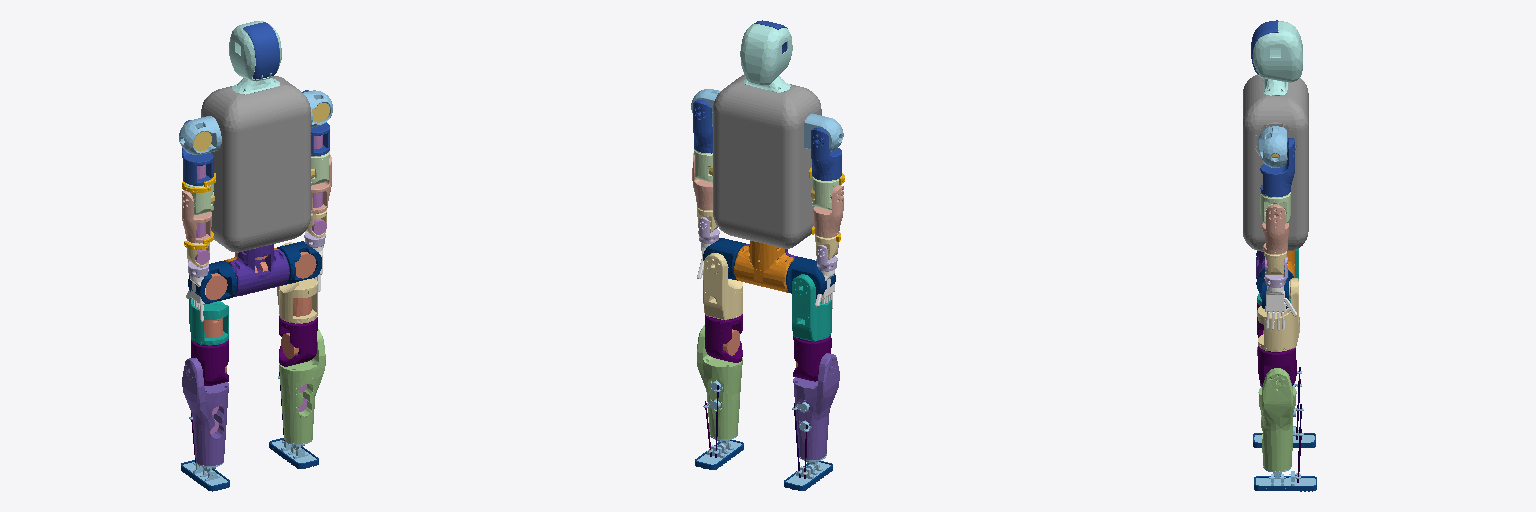
--- What the picture shows (computed from the rendered views, not written in the file) ---
The picture shows the robot from 3 angles, left to right: view 1: azimuth 30°, elevation 25°; view 2: azimuth 150°, elevation 25°; view 3: azimuth 270°, elevation 25°; orthographic projection.
Robot: robot_harambe — 26 links, 25 joints (23 revolute, 2 fixed); root link urdf_base; default pose: every joint at zero.
Visible links, largest first — view 1: urdf_simplified_torso_sub_assembly, urdf_l_tibia_assembly, urdf_r_tibia_assembly, urdf_base, urdf_r_upper_femur_assemby, urdf_lower_femur_assembly_2, urdf_l_upper_femur_assembly, urdf_l_shoulder_assembly, urdf_hip_assembly, urdf_lower_femur_assembly, urdf_hip_assembly_2, urdf_l_upper_forearm_assembly (+6 smaller); view 2: urdf_simplified_torso_sub_assembly, urdf_l_tibia_assembly, urdf_r_tibia_assembly, urdf_base, urdf_r_upper_femur_assemby, urdf_l_upper_femur_assembly, urdf_lower_femur_assembly_2, urdf_l_upper_arm_assembly, urdf_lower_femur_assembly, urdf_l_upper_forearm_assembly, urdf_r_upper_arm_assembly, urdf_hip_assembly (+6 smaller); view 3: urdf_simplified_torso_sub_assembly, urdf_r_tibia_assembly, urdf_r_upper_femur_assemby, urdf_r_upper_arm_assembly, urdf_r_wrist_assembly, urdf_r_upper_forearm_assembly, urdf_r_shoulder_assembly, urdf_lower_femur_assembly_2, urdf_l_tibia_assembly.
Link boxes in pixels (box(x1,y1,x2,y2)): urdf_simplified_torso_sub_assembly: box(201, 21, 310, 252); urdf_l_tibia_assembly: box(181, 358, 229, 491); urdf_r_tibia_assembly: box(269, 329, 325, 468); urdf_base: box(224, 244, 289, 296); urdf_r_upper_femur_assemby: box(277, 242, 317, 323); urdf_lower_femur_assembly_2: box(279, 316, 317, 366); urdf_l_upper_femur_assembly: box(189, 275, 228, 345); urdf_l_shoulder_assembly: box(179, 116, 221, 154); urdf_hip_assembly: box(188, 261, 236, 303); urdf_lower_femur_assembly: box(191, 339, 228, 385); urdf_hip_assembly_2: box(277, 241, 321, 284); urdf_l_upper_forearm_assembly: box(182, 190, 213, 243); urdf_simplified_torso_sub_assembly: box(713, 20, 821, 248); urdf_l_tibia_assembly: box(784, 353, 839, 490); urdf_r_tibia_assembly: box(695, 325, 743, 469); urdf_base: box(734, 241, 797, 292); urdf_r_upper_femur_assemby: box(703, 253, 742, 320); urdf_l_upper_femur_assembly: box(792, 274, 831, 341); urdf_lower_femur_assembly_2: box(705, 314, 742, 362); urdf_l_upper_arm_assembly: box(809, 128, 841, 180); urdf_lower_femur_assembly: box(793, 335, 831, 381); urdf_l_upper_forearm_assembly: box(812, 185, 843, 237); urdf_r_upper_arm_assembly: box(693, 100, 712, 153); urdf_hip_assembly: box(786, 257, 835, 298); urdf_simplified_torso_sub_assembly: box(1243, 20, 1308, 251); urdf_r_tibia_assembly: box(1254, 368, 1316, 491); urdf_r_upper_femur_assemby: box(1257, 278, 1299, 351); urdf_r_upper_arm_assembly: box(1260, 138, 1294, 196); urdf_r_wrist_assembly: box(1265, 257, 1296, 330); urdf_r_upper_forearm_assembly: box(1262, 204, 1288, 253); urdf_r_shoulder_assembly: box(1258, 126, 1286, 167); urdf_lower_femur_assembly_2: box(1258, 346, 1296, 385); urdf_l_tibia_assembly: box(1253, 347, 1315, 447).
Bounding box of the posed robot: 0.6193 × 0.272 × 1.77 m (x, y, z).
Meshes: 55 distinct files referenced, 130 mesh visuals loaded (55 binary STL).

The robot description file, URDF, robot "robot_harambe":
<?xml version="1.0" ?>
<!-- Generated using onshape-to-robot -->
<!-- Onshape document_id: 44eccb8c34362883e6cd3fd1 -->
<robot name="robot_harambe">
  <!-- Link urdf_base -->
  <link name="urdf_base">
    <inertial>
      <origin xyz="0.000699269 0.0334604 -0.431702" rpy="0 0 0"/>
      <mass value="5.132"/>
      <inertia ixx="0.0213139" ixy="-2.35276e-07" ixz="6.5838e-06" iyy="0.0288848" iyz="-2.88595e-05" izz="0.0155352"/>
    </inertial>
    <!-- Part stator_x8_p20_120_unified -->
    <visual>
      <origin xyz="-0.0103011 0.0333787 -0.467748" rpy="-1.5708 0.785398 1.5708"/>
      <geometry>
        <mesh filename="meshes/visual/stator_x8_p20_120_unified.stl"/>
      </geometry>
      <material name="stator_x8_p20_120_unified_material">
        <color rgba="0.882353 0.572549 0.478431 1"/>
      </material>
    </visual>
    <!-- Part b_base -->
    <visual>
      <origin xyz="0.000697952 -0.00271429 -0.432504" rpy="0 -0 0"/>
      <geometry>
        <mesh filename="meshes/visual/b_base.stl"/>
      </geometry>
      <material name="b_base_material">
        <color rgba="0.368627 0.25098 0.643137 1"/>
      </material>
    </visual>
    <collision>
      <origin xyz="0.000697952 -0.00271429 -0.432504" rpy="0 -0 0"/>
      <geometry>
        <mesh filename="meshes/collision/b_base.stl"/>
      </geometry>
    </collision>
    <!-- Part stator_x8_p20_120_unified_2 -->
    <visual>
      <origin xyz="0.0116989 0.0333787 -0.467748" rpy="1.5708 -0.785398 1.5708"/>
      <geometry>
        <mesh filename="meshes/visual/stator_x8_p20_120_unified.stl"/>
      </geometry>
      <material name="stator_x8_p20_120_unified_2_material">
        <color rgba="0.882353 0.572549 0.478431 1"/>
      </material>
    </visual>
    <!-- Part stator_x8_p20_120_unified_3 -->
    <visual>
      <origin xyz="0.000698852 0.0333787 -0.396748" rpy="0 -0 0"/>
      <geometry>
        <mesh filename="meshes/visual/stator_x8_p20_120_unified.stl"/>
      </geometry>
      <material name="stator_x8_p20_120_unified_3_material">
        <color rgba="0.882353 0.572549 0.478431 1"/>
      </material>
    </visual>
    <!-- Part f_base -->
    <visual>
      <origin xyz="0.000705351 0.070373 -0.431099" rpy="0 -0 0"/>
      <geometry>
        <mesh filename="meshes/visual/f_base.stl"/>
      </geometry>
      <material name="f_base_material">
        <color rgba="0.909804 0.572549 0.164706 1"/>
      </material>
    </visual>
    <collision>
      <origin xyz="0.000705351 0.070373 -0.431099" rpy="0 -0 0"/>
      <geometry>
        <mesh filename="meshes/collision/f_base.stl"/>
      </geometry>
    </collision>
  </link>
  <!-- Link urdf_simplified_torso_sub_assembly -->
  <link name="urdf_simplified_torso_sub_assembly">
    <inertial>
      <origin xyz="0.00587549 -0.00084485 -0.417851" rpy="0 0 0"/>
      <mass value="9.22071"/>
      <inertia ixx="0.220452" ixy="2.3692e-08" ixz="-0.000110066" iyy="0.324451" iyz="-0.00208618" izz="0.138166"/>
    </inertial>
    <!-- Part urdf_r_plate_shoulder_with_limiter_pla -->
    <visual>
      <origin xyz="0.168755 -4.00834e-06 -0.427883" rpy="-3.14159 0 0"/>
      <geometry>
        <mesh filename="meshes/visual/urdf_r_plate_shoulder_with_limiter_pla.stl"/>
      </geometry>
      <material name="urdf_r_plate_shoulder_with_limiter_pla_material">
        <color rgba="0.647059 0.647059 0.647059 1"/>
      </material>
    </visual>
    <collision>
      <origin xyz="0.168755 -4.00834e-06 -0.427883" rpy="-3.14159 0 0"/>
      <geometry>
        <mesh filename="meshes/collision/urdf_r_plate_shoulder_with_limiter_pla.stl"/>
      </geometry>
    </collision>
    <!-- Part urdf_l_plate_shoulder_with_limiter_pla -->
    <visual>
      <origin xyz="-0.156752 -4.00839e-06 -0.427883" rpy="3.14159 -0 0"/>
      <geometry>
        <mesh filename="meshes/visual/urdf_l_plate_shoulder_with_limiter_pla.stl"/>
      </geometry>
      <material name="urdf_l_plate_shoulder_with_limiter_pla_material">
        <color rgba="0.615686 0.811765 0.929412 1"/>
      </material>
    </visual>
    <collision>
      <origin xyz="-0.156752 -4.00839e-06 -0.427883" rpy="3.14159 -0 0"/>
      <geometry>
        <mesh filename="meshes/collision/urdf_l_plate_shoulder_with_limiter_pla.stl"/>
      </geometry>
    </collision>
    <!-- Part stator_x6_p20_60_unified -->
    <visual>
      <origin xyz="0.0990017 -4.00839e-06 -0.427" rpy="-3.14159 -1.5708 0"/>
      <geometry>
        <mesh filename="meshes/visual/stator_x6_p20_60_unified.stl"/>
      </geometry>
      <material name="stator_x6_p20_60_unified_material">
        <color rgba="0.960784 0.835294 0.470588 1"/>
      </material>
    </visual>
    <!-- Part stator_x6_p20_60_unified_2 -->
    <visual>
      <origin xyz="-0.0869983 -4.00839e-06 -0.427" rpy="0 -1.5708 0"/>
      <geometry>
        <mesh filename="meshes/visual/stator_x6_p20_60_unified.stl"/>
      </geometry>
      <material name="stator_x6_p20_60_unified_2_material">
        <color rgba="0.960784 0.835294 0.470588 1"/>
      </material>
    </visual>
    <!-- Part urdf_simplified_torso -->
    <visual>
      <origin xyz="0.00600172 -4.00844e-06 -0.2625" rpy="-3.14159 0 0"/>
      <geometry>
        <mesh filename="meshes/visual/urdf_simplified_torso.stl"/>
      </geometry>
      <material name="urdf_simplified_torso_material">
        <color rgba="0.647059 0.647059 0.647059 1"/>
      </material>
    </visual>
    <collision>
      <origin xyz="0.00600172 -4.00844e-06 -0.2625" rpy="-3.14159 0 0"/>
      <geometry>
        <mesh filename="meshes/collision/urdf_simplified_torso.stl"/>
      </geometry>
    </collision>
    <!-- Part urdf_torso_pelvis_plate_pla -->
    <visual>
      <origin xyz="-0 0 -0.005" rpy="3.14159 -0 -0"/>
      <geometry>
        <mesh filename="meshes/visual/urdf_torso_pelvis_plate_pla.stl"/>
      </geometry>
      <material name="urdf_torso_pelvis_plate_pla_material">
        <color rgba="0.231373 0.380392 0.705882 1"/>
      </material>
    </visual>
    <collision>
      <origin xyz="-0 0 -0.005" rpy="3.14159 -0 -0"/>
      <geometry>
        <mesh filename="meshes/collision/urdf_torso_pelvis_plate_pla.stl"/>
      </geometry>
    </collision>
    <!-- Part head -->
    <visual>
      <origin xyz="0.00635981 -4.18304e-05 -0.6725" rpy="-3.14159 0 0"/>
      <geometry>
        <mesh filename="meshes/visual/head.stl"/>
      </geometry>
      <material name="head_material">
        <color rgba="0.737255 0.937255 0.917647 1"/>
      </material>
    </visual>
    <collision>
      <origin xyz="0.00635981 -4.18304e-05 -0.6725" rpy="-3.14159 0 0"/>
      <geometry>
        <mesh filename="meshes/collision/head.stl"/>
      </geometry>
    </collision>
    <!-- Part back_access -->
    <visual>
      <origin xyz="0.00635981 -4.18304e-05 -0.674429" rpy="-3.14159 0 0"/>
      <geometry>
        <mesh filename="meshes/visual/back_access.stl"/>
      </geometry>
      <material name="back_access_material">
        <color rgba="0.231373 0.380392 0.705882 1"/>
      </material>
    </visual>
    <collision>
      <origin xyz="0.00635981 -4.18304e-05 -0.674429" rpy="-3.14159 0 0"/>
      <geometry>
        <mesh filename="meshes/collision/back_access.stl"/>
      </geometry>
    </collision>
  </link>
  <!-- Link urdf_l_shoulder_assembly -->
  <link name="urdf_l_shoulder_assembly">
    <inertial>
      <origin xyz="-0.00497539 -1.6622e-05 -0.06724" rpy="0 0 0"/>
      <mass value="3.07135"/>
      <inertia ixx="0.0035417" ixy="-1.44506e-06" ixz="2.84269e-05" iyy="0.00313077" iyz="3.53617e-06" izz="0.00290943"/>
    </inertial>
    <!-- Part l_shoulder -->
    <visual>
      <origin xyz="-0.00130076 -6.96521e-06 -0.0502746" rpy="-1.5708 -1.5708 0"/>
      <geometry>
        <mesh filename="meshes/visual/l_shoulder.stl"/>
      </geometry>
      <material name="l_shoulder_material">
        <color rgba="0.615686 0.811765 0.929412 1"/>
      </material>
    </visual>
    <collision>
      <origin xyz="-0.00130076 -6.96521e-06 -0.0502746" rpy="-1.5708 -1.5708 0"/>
      <geometry>
        <mesh filename="meshes/collision/l_shoulder.stl"/>
      </geometry>
    </collision>
    <!-- Part stator_x6_p20_60_unified_3 -->
    <visual>
      <origin xyz="-0.0385 0 -0.07" rpy="3.14159 -1.5708 0"/>
      <geometry>
        <mesh filename="meshes/visual/stator_x6_p20_60_unified.stl"/>
      </geometry>
      <material name="stator_x6_p20_60_unified_3_material">
        <color rgba="0.960784 0.835294 0.470588 1"/>
      </material>
    </visual>
  </link>
  <!-- Link urdf_l_upper_arm_assembly -->
  <link name="urdf_l_upper_arm_assembly">
    <inertial>
      <origin xyz="0.00100127 0.105781 -0.0355919" rpy="0 0 0"/>
      <mass value="0.822"/>
      <inertia ixx="0.00215042" ixy="-4.34135e-05" ixz="1.65821e-05" iyy="0.00109808" iyz="0.00049977" izz="0.0019913"/>
    </inertial>
    <!-- Part arm_limiter -->
    <visual>
      <origin xyz="0.0411507 0.158216 -0.0675144" rpy="1.5708 0 -0"/>
      <geometry>
        <mesh filename="meshes/visual/arm_limiter.stl"/>
      </geometry>
      <material name="arm_limiter_material">
        <color rgba="1 0.756863 0.054902 1"/>
      </material>
    </visual>
    <collision>
      <origin xyz="0.0411507 0.158216 -0.0675144" rpy="1.5708 0 -0"/>
      <geometry>
        <mesh filename="meshes/collision/arm_limiter.stl"/>
      </geometry>
    </collision>
    <!-- Part l_upper_arm -->
    <visual>
      <origin xyz="6.2547e-08 0.0912885 -0.0256703" rpy="1.5708 -0 -0"/>
      <geometry>
        <mesh filename="meshes/visual/l_upper_arm.stl"/>
      </geometry>
      <material name="l_upper_arm_material">
        <color rgba="0.231373 0.380392 0.705882 1"/>
      </material>
    </visual>
    <collision>
      <origin xyz="6.2547e-08 0.0912885 -0.0256703" rpy="1.5708 -0 -0"/>
      <geometry>
        <mesh filename="meshes/collision/l_upper_arm.stl"/>
      </geometry>
    </collision>
    <!-- Part stator_x4_p36_36_unified -->
    <visual>
      <origin xyz="-0 0.091 -0.046" rpy="-1.5708 -0 0"/>
      <geometry>
        <mesh filename="meshes/visual/stator_x4_p36_36_unified.stl"/>
      </geometry>
      <material name="stator_x4_p36_36_unified_material">
        <color rgba="0.764706 0.545098 0.803922 1"/>
      </material>
    </visual>
  </link>
  <!-- Link urdf_l_elbow_assembly -->
  <link name="urdf_l_elbow_assembly">
    <inertial>
      <origin xyz="0.00994774 -0.000233513 -0.0631484" rpy="0 0 0"/>
      <mass value="2.98735"/>
      <inertia ixx="0.00314902" ixy="-2.33726e-05" ixz="0.000124999" iyy="0.00298255" iyz="3.70633e-05" izz="0.00265174"/>
    </inertial>
    <!-- Part elbow_limiter -->
    <visual>
      <origin xyz="-0.0364319 -0.0350673 -0.00907087" rpy="0 -0 -0"/>
      <geometry>
        <mesh filename="meshes/visual/elbow_limiter.stl"/>
      </geometry>
      <material name="elbow_limiter_material">
        <color rgba="1 0.756863 0.054902 1"/>
      </material>
    </visual>
    <collision>
      <origin xyz="-0.0364319 -0.0350673 -0.00907087" rpy="0 -0 -0"/>
      <geometry>
        <mesh filename="meshes/collision/elbow_limiter.stl"/>
      </geometry>
    </collision>
    <!-- Part stator_x6_p20_60_unified_4 -->
    <visual>
      <origin xyz="0.0445 0 -0.065" rpy="3.14159 1.5708 0"/>
      <geometry>
        <mesh filename="meshes/visual/stator_x6_p20_60_unified.stl"/>
      </geometry>
      <material name="stator_x6_p20_60_unified_4_material">
        <color rgba="0.960784 0.835294 0.470588 1"/>
      </material>
    </visual>
    <!-- Part l_elbow -->
    <visual>
      <origin xyz="-0.000331628 1.15447e-05 -0.0512953" rpy="0 -0 0"/>
      <geometry>
        <mesh filename="meshes/visual/l_elbow.stl"/>
      </geometry>
      <material name="l_elbow_material">
        <color rgba="0.796078 0.905882 0.745098 1"/>
      </material>
    </visual>
    <collision>
      <origin xyz="-0.000331628 1.15447e-05 -0.0512953" rpy="0 -0 0"/>
      <geometry>
        <mesh filename="meshes/collision/l_elbow.stl"/>
      </geometry>
    </collision>
  </link>
  <!-- Link urdf_l_upper_forearm_assembly -->
  <link name="urdf_l_upper_forearm_assembly">
    <inertial>
      <origin xyz="0.00170771 -0.103744 0.0340287" rpy="0 0 0"/>
      <mass value="0.727"/>
      <inertia ixx="0.00176929" ixy="-5.82199e-06" ixz="-1.34759e-06" iyy="0.000766079" iyz="0.000394864" izz="0.0015348"/>
    </inertial>
    <!-- Part forearm_limiter -->
    <visual>
      <origin xyz="-0.0189092 -0.156122 0.0747704" rpy="-1.57087 -1.5708 0"/>
      <geometry>
        <mesh filename="meshes/visual/forearm_limiter.stl"/>
      </geometry>
      <material name="forearm_limiter_material">
        <color rgba="1 0.756863 0.054902 1"/>
      </material>
    </visual>
    <collision>
      <origin xyz="-0.0189092 -0.156122 0.0747704" rpy="-1.57087 -1.5708 0"/>
      <geometry>
        <mesh filename="meshes/collision/forearm_limiter.stl"/>
      </geometry>
    </collision>
    <!-- Part l_upper_forearm -->
    <visual>
      <origin xyz="0.0046701 -0.0842108 0.0254855" rpy="-1.5708 -1.5708 0"/>
      <geometry>
        <mesh filename="meshes/visual/l_upper_forearm.stl"/>
      </geometry>
      <material name="l_upper_forearm_material">
        <color rgba="0.890196 0.698039 0.639216 1"/>
      </material>
    </visual>
    <collision>
      <origin xyz="0.0046701 -0.0842108 0.0254855" rpy="-1.5708 -1.5708 0"/>
      <geometry>
        <mesh filename="meshes/collision/l_upper_forearm.stl"/>
      </geometry>
    </collision>
    <!-- Part stator_x4_p36_36_unified_2 -->
    <visual>
      <origin xyz="-0 -0.09 0.04" rpy="1.5708 -1.5708 0"/>
      <geometry>
        <mesh filename="meshes/visual/stator_x4_p36_36_unified.stl"/>
      </geometry>
      <material name="stator_x4_p36_36_unified_2_material">
        <color rgba="0.764706 0.545098 0.803922 1"/>
      </material>
    </visual>
  </link>
  <!-- Link urdf_l_lower_forearm_assembly -->
  <link name="urdf_l_lower_forearm_assembly">
    <inertial>
      <origin xyz="-0.00114678 -0.00570813 -0.0477193" rpy="0 0 0"/>
      <mass value="0.553"/>
      <inertia ixx="0.000524359" ixy="-6.12847e-06" ixz="2.55712e-05" iyy="0.000521453" iyz="-1.24836e-05" izz="0.000391379"/>
    </inertial>
    <!-- Part hand_limiter -->
    <visual>
      <origin xyz="-0.0317086 -0.0248862 -0.00779106" rpy="-7.42674e-05 -2.939e-08 -0"/>
      <geometry>
        <mesh filename="meshes/visual/hand_limiter.stl"/>
      </geometry>
      <material name="hand_limiter_material">
        <color rgba="1 0.756863 0.054902 1"/>
      </material>
    </visual>
    <collision>
      <origin xyz="-0.0317086 -0.0248862 -0.00779106" rpy="-7.42674e-05 -2.939e-08 -0"/>
      <geometry>
        <mesh filename="meshes/collision/hand_limiter.stl"/>
      </geometry>
    </collision>
    <!-- Part l_lower_forearm -->
    <visual>
      <origin xyz="-3.7846e-08 0.00198299 -0.0340631" rpy="0 -0 -0"/>
      <geometry>
        <mesh filename="meshes/visual/l_lower_forearm.stl"/>
      </geometry>
      <material name="l_lower_forearm_material">
        <color rgba="0.941176 0.87451 0.678431 1"/>
      </material>
    </visual>
    <collision>
      <origin xyz="-3.7846e-08 0.00198299 -0.0340631" rpy="0 -0 -0"/>
      <geometry>
        <mesh filename="meshes/collision/l_lower_forearm.stl"/>
      </geometry>
    </collision>
    <!-- Part stator_x4_p36_36_unified_3 -->
    <visual>
      <origin xyz="0 -0.038 -0.0565" rpy="1.5708 -0 3.14159"/>
      <geometry>
        <mesh filename="meshes/visual/stator_x4_p36_36_unified.stl"/>
      </geometry>
      <material name="stator_x4_p36_36_unified_3_material">
        <color rgba="0.764706 0.545098 0.803922 1"/>
      </material>
    </visual>
  </link>
  <!-- Link urdf_l_wrist_assembly -->
  <link name="urdf_l_wrist_assembly">
    <inertial>
      <origin xyz="-1.08315e-06 -0.112614 0.0282716" rpy="0 0 0"/>
      <mass value="0.398"/>
      <inertia ixx="0.00160501" ixy="2.3164e-08" ixz="-7.037e-09" iyy="0.000274862" iyz="5.58167e-05" izz="0.00146537"/>
    </inertial>
    <!-- Part l_wrist -->
    <visual>
      <origin xyz="-4.31502e-06 -0.0434653 0.0219314" rpy="-1.5708 -0 0"/>
      <geometry>
        <mesh filename="meshes/visual/l_wrist.stl"/>
      </geometry>
      <material name="l_wrist_material">
        <color rgba="0.8 0.74902 0.913725 1"/>
      </material>
    </visual>
    <collision>
      <origin xyz="-4.31502e-06 -0.0434653 0.0219314" rpy="-1.5708 -0 0"/>
      <geometry>
        <mesh filename="meshes/collision/l_wrist.stl"/>
      </geometry>
    </collision>
    <!-- Part l_hand -->
    <visual>
      <origin xyz="-2.67e-09 -0.135203 0.0303429" rpy="-1.5708 1.5708 0"/>
      <geometry>
        <mesh filename="meshes/visual/l_hand.stl"/>
      </geometry>
      <material name="l_hand_material">
        <color rgba="1 1 1 1"/>
      </material>
    </visual>
    <collision>
      <origin xyz="-2.67e-09 -0.135203 0.0303429" rpy="-1.5708 1.5708 0"/>
      <geometry>
        <mesh filename="meshes/collision/l_hand.stl"/>
      </geometry>
    </collision>
  </link>
  <!-- Joint from urdf_l_lower_forearm_assembly to urdf_l_wrist_assembly -->
  <joint name="left_wrist_roll_joint_X4" type="revolute">
    <origin xyz="0 0.033 -0.0565" rpy="1.5708 0 -0"/>
    <parent link="urdf_l_lower_forearm_assembly"/>
    <child link="urdf_l_wrist_assembly"/>
    <axis xyz="0 0 1"/>
    <limit effort="10" velocity="10" lower="-1.5708" upper="1.5708"/>
  </joint>
  <!-- Joint from urdf_l_upper_forearm_assembly to urdf_l_lower_forearm_assembly -->
  <joint name="left_wrist_yaw_joint_X4" type="revolute">
    <origin xyz="-0 -0.168 0.04" rpy="-1.5708 -1.5708 0"/>
    <parent link="urdf_l_upper_forearm_assembly"/>
    <child link="urdf_l_lower_forearm_assembly"/>
    <axis xyz="0 0 1"/>
    <limit effort="10" velocity="10" lower="-2.35619" upper="2.35619"/>
  </joint>
  <!-- Joint from urdf_l_elbow_assembly to urdf_l_upper_forearm_assembly -->
  <joint name="left_elbow_pitch_joint_X6" type="revolute">
    <origin xyz="-0.04 0 -0.065" rpy="1.5708 0 1.5708"/>
    <parent link="urdf_l_elbow_assembly"/>
    <child link="urdf_l_upper_forearm_assembly"/>
    <axis xyz="0 0 1"/>
    <limit effort="10" velocity="10" lower="-1.5708" upper="1.5708"/>
  </joint>
  <!-- Joint from urdf_l_upper_arm_assembly to urdf_l_elbow_assembly -->
  <joint name="left_shoulder_yaw_joint_X4" type="revolute">
    <origin xyz="0 0.17 -0.046" rpy="1.5708 -0 -0"/>
    <parent link="urdf_l_upper_arm_assembly"/>
    <child link="urdf_l_elbow_assembly"/>
    <axis xyz="0 0 1"/>
    <limit effort="10" velocity="10" lower="-2.35619" upper="2.35619"/>
  </joint>
  <!-- Joint from urdf_l_shoulder_assembly to urdf_l_upper_arm_assembly -->
  <joint name="left_shoulder_roll_joint_X6" type="revolute">
    <origin xyz="0.036 0 -0.07" rpy="-3.14159 -1.5708 0"/>
    <parent link="urdf_l_shoulder_assembly"/>
    <child link="urdf_l_upper_arm_assembly"/>
    <axis xyz="0 0 1"/>
    <limit effort="10" velocity="10" lower="0" upper="3.14159"/>
  </joint>
  <!-- Joint from urdf_simplified_torso_sub_assembly to urdf_l_shoulder_assembly -->
  <joint name="left_shoulder_pitch_joint_X6" type="revolute">
    <origin xyz="-0.169498 -4.00839e-06 -0.427" rpy="-1.5708 0 -1.5708"/>
    <parent link="urdf_simplified_torso_sub_assembly"/>
    <child link="urdf_l_shoulder_assembly"/>
    <axis xyz="0 0 1"/>
    <limit effort="10" velocity="10" lower="-1.5708" upper="3.14159"/>
  </joint>
  <!-- Link urdf_r_shoulder_assembly -->
  <link name="urdf_r_shoulder_assembly">
    <inertial>
      <origin xyz="-0.00525946 9.07501e-06 -0.0685921" rpy="0 0 0"/>
      <mass value="2.84535"/>
      <inertia ixx="0.00278215" ixy="7.27035e-07" ixz="1.19902e-05" iyy="0.00253762" iyz="-1.82653e-06" izz="0.00243401"/>
    </inertial>
    <!-- Part stator_x6_p20_60_unified_5 -->
    <visual>
      <origin xyz="-0.0385 0 -0.07" rpy="-0 1.5708 0"/>
      <geometry>
        <mesh filename="meshes/visual/stator_x6_p20_60_unified.stl"/>
      </geometry>
      <material name="stator_x6_p20_60_unified_5_material">
        <color rgba="0.960784 0.835294 0.470588 1"/>
      </material>
    </visual>
    <!-- Part r_shoulder -->
    <visual>
      <origin xyz="-0.00129067 6.91178e-06 -0.0501448" rpy="1.5708 1.5708 0"/>
      <geometry>
        <mesh filename="meshes/visual/r_shoulder.stl"/>
      </geometry>
      <material name="r_shoulder_material">
        <color rgba="0.615686 0.811765 0.929412 1"/>
      </material>
    </visual>
    <collision>
      <origin xyz="-0.00129067 6.91178e-06 -0.0501448" rpy="1.5708 1.5708 0"/>
      <geometry>
        <mesh filename="meshes/collision/r_shoulder.stl"/>
      </geometry>
    </collision>
  </link>
  <!-- Link urdf_r_upper_arm_assembly -->
  <link name="urdf_r_upper_arm_assembly">
    <inertial>
      <origin xyz="-9.416e-09 -0.104084 0.0297331" rpy="0 0 0"/>
      <mass value="0.802"/>
      <inertia ixx="0.00204755" ixy="-6.95e-10" ixz="1.159e-09" iyy="0.0010158" iyz="0.000468447" izz="0.00188605"/>
    </inertial>
    <!-- Part stator_x4_p36_36_unified_4 -->
    <visual>
      <origin xyz="0 -0.091 0.041" rpy="1.5708 0 0"/>
      <geometry>
        <mesh filename="meshes/visual/stator_x4_p36_36_unified.stl"/>
      </geometry>
      <material name="stator_x4_p36_36_unified_4_material">
        <color rgba="0.764706 0.545098 0.803922 1"/>
      </material>
    </visual>
    <!-- Part r_upper_arm -->
    <visual>
      <origin xyz="-4.6857e-08 -0.0905315 0.020543" rpy="-1.5708 0 0"/>
      <geometry>
        <mesh filename="meshes/visual/r_upper_arm.stl"/>
      </geometry>
      <material name="r_upper_arm_material">
        <color rgba="0.231373 0.380392 0.705882 1"/>
      </material>
    </visual>
    <collision>
      <origin xyz="-4.6857e-08 -0.0905315 0.020543" rpy="-1.5708 0 0"/>
      <geometry>
        <mesh filename="meshes/collision/r_upper_arm.stl"/>
      </geometry>
    </collision>
  </link>
  <!-- Link urdf_r_elbow_assembly -->
  <link name="urdf_r_elbow_assembly">
    <inertial>
      <origin xyz="-0.010381 1.19265e-05 -0.0635916" rpy="0 0 0"/>
      <mass value="2.93435"/>
      <inertia ixx="0.00296574" ixy="-3.7473e-07" ixz="-6.85424e-05" iyy="0.00279047" iyz="-2.33715e-06" izz="0.00250864"/>
    </inertial>
    <!-- Part r_elbow -->
    <visual>
      <origin xyz="0.000331582 1.16025e-05 -0.0512953" rpy="0 -0 0"/>
      <geometry>
        <mesh filename="meshes/visual/r_elbow.stl"/>
      </geometry>
      <material name="r_elbow_material">
        <color rgba="0.796078 0.905882 0.745098 1"/>
      </material>
    </visual>
    <collision>
      <origin xyz="0.000331582 1.16025e-05 -0.0512953" rpy="0 -0 0"/>
      <geometry>
        <mesh filename="meshes/collision/r_elbow.stl"/>
      </geometry>
    </collision>
    <!-- Part stator_x6_p20_60_unified_6 -->
    <visual>
      <origin xyz="-0.0445 0 -0.065" rpy="-3.14159 -1.5708 0"/>
      <geometry>
        <mesh filename="meshes/visual/stator_x6_p20_60_unified.stl"/>
      </geometry>
      <material name="stator_x6_p20_60_unified_6_material">
        <color rgba="0.960784 0.835294 0.470588 1"/>
      </material>
    </visual>
  </link>
  <!-- Link urdf_r_upper_forearm_assembly -->
  <link name="urdf_r_upper_forearm_assembly">
    <inertial>
      <origin xyz="0.00228064 0.101792 0.0327896" rpy="0 0 0"/>
      <mass value="0.707"/>
      <inertia ixx="0.00166903" ixy="-1.53798e-05" ixz="-1.15872e-05" iyy="0.000703651" iyz="-0.000352466" izz="0.0014499"/>
    </inertial>
    <!-- Part stator_x4_p36_36_unified_5 -->
    <visual>
      <origin xyz="0 0.09 0.04" rpy="-1.5708 1.5708 0"/>
      <geometry>
        <mesh filename="meshes/visual/stator_x4_p36_36_unified.stl"/>
      </geometry>
      <material name="stator_x4_p36_36_unified_5_material">
        <color rgba="0.764706 0.545098 0.803922 1"/>
      </material>
    </visual>
    <!-- Part r_upper_forearm -->
    <visual>
      <origin xyz="0.00466986 0.0842107 0.0254856" rpy="1.5708 1.5708 0"/>
      <geometry>
        <mesh filename="meshes/visual/r_upper_forearm.stl"/>
      </geometry>
      <material name="r_upper_forearm_material">
        <color rgba="0.890196 0.698039 0.639216 1"/>
      </material>
    </visual>
    <collision>
      <origin xyz="0.00466986 0.0842107 0.0254856" rpy="1.5708 1.5708 0"/>
      <geometry>
        <mesh filename="meshes/collision/r_upper_forearm.stl"/>
      </geometry>
    </collision>
  </link>
  <!-- Link urdf_r_lower_forearm_assembly -->
  <link name="urdf_r_lower_forearm_assembly">
    <inertial>
      <origin xyz="-2.4334e-08 -0.00399848 -0.046852" rpy="0 0 0"/>
      <mass value="0.618"/>
      <inertia ixx="0.000618602" ixy="1.76e-10" ixz="-5.34e-10" iyy="0.000617307" iyz="-3.83228e-05" izz="0.000437775"/>
    </inertial>
    <!-- Part r_lower_forearm -->
    <visual>
      <origin xyz="4.2712e-08 0.00205797 -0.0333447" rpy="-0 -0 0"/>
      <geometry>
        <mesh filename="meshes/visual/r_lower_forearm.stl"/>
      </geometry>
      <material name="r_lower_forearm_material">
        <color rgba="0.941176 0.87451 0.678431 1"/>
      </material>
    </visual>
    <collision>
      <origin xyz="4.2712e-08 0.00205797 -0.0333447" rpy="-0 -0 0"/>
      <geometry>
        <mesh filename="meshes/collision/r_lower_forearm.stl"/>
      </geometry>
    </collision>
    <!-- Part stator_x4_p36_36_unified_6 -->
    <visual>
      <origin xyz="-0 -0.038 -0.0565" rpy="1.5708 0 3.14159"/>
      <geometry>
        <mesh filename="meshes/visual/stator_x4_p36_36_unified.stl"/>
      </geometry>
      <material name="stator_x4_p36_36_unified_6_material">
        <color rgba="0.764706 0.545098 0.803922 1"/>
      </material>
    </visual>
  </link>
  <!-- Link urdf_r_wrist_assembly -->
  <link name="urdf_r_wrist_assembly">
    <inertial>
      <origin xyz="1.54616e-06 -0.104482 0.0275327" rpy="0 0 0"/>
      <mass value="0.45"/>
      <inertia ixx="0.001889" ixy="-3.2626e-08" ixz="1.0208e-08" iyy="0.000327099" iyz="9.3721e-05" izz="0.0017356"/>
    </inertial>
    <!-- Part r_hand -->
    <visual>
      <origin xyz="2.67e-09 -0.135003 0.0303429" rpy="-1.5708 -1.5708 0"/>
      <geometry>
        <mesh filename="meshes/visual/r_hand.stl"/>
      </geometry>
      <material name="r_hand_material">
        <color rgba="1 1 1 1"/>
      </material>
    </visual>
    <collision>
      <origin xyz="2.67e-09 -0.135003 0.0303429" rpy="-1.5708 -1.5708 0"/>
      <geometry>
        <mesh filename="meshes/collision/r_hand.stl"/>
      </geometry>
    </collision>
    <!-- Part r_wrist -->
    <visual>
      <origin xyz="4.44584e-06 -0.0434653 0.0219316" rpy="-1.5708 0 0"/>
      <geometry>
        <mesh filename="meshes/visual/r_wrist.stl"/>
      </geometry>
      <material name="r_wrist_material">
        <color rgba="0.8 0.74902 0.913725 1"/>
      </material>
    </visual>
    <collision>
      <origin xyz="4.44584e-06 -0.0434653 0.0219316" rpy="-1.5708 0 0"/>
      <geometry>
        <mesh filename="meshes/collision/r_wrist.stl"/>
      </geometry>
    </collision>
  </link>
  <!-- Joint from urdf_r_lower_forearm_assembly to urdf_r_wrist_assembly -->
  <joint name="right_wrist_roll_joint_X4" type="revolute">
    <origin xyz="-0 0.033 -0.0565" rpy="1.5708 -0 -0"/>
    <parent link="urdf_r_lower_forearm_assembly"/>
    <child link="urdf_r_wrist_assembly"/>
    <axis xyz="0 0 1"/>
    <limit effort="10" velocity="10" lower="-1.5708" upper="1.5708"/>
  </joint>
  <!-- Joint from urdf_r_upper_forearm_assembly to urdf_r_lower_forearm_assembly -->
  <joint name="right_wrist_yaw_joint_X4" type="revolute">
    <origin xyz="0 0.168 0.04" rpy="1.5708 1.5708 0"/>
    <parent link="urdf_r_upper_forearm_assembly"/>
    <child link="urdf_r_lower_forearm_assembly"/>
    <axis xyz="0 0 1"/>
    <limit effort="10" velocity="10" lower="-2.35619" upper="2.35619"/>
  </joint>
  <!-- Joint from urdf_r_elbow_assembly to urdf_r_upper_forearm_assembly -->
  <joint name="right_elbow_pitch_joint_X6" type="revolute">
    <origin xyz="0.04 -0 -0.065" rpy="-1.5708 -0 1.5708"/>
    <parent link="urdf_r_elbow_assembly"/>
    <child link="urdf_r_upper_forearm_assembly"/>
    <axis xyz="0 0 1"/>
    <limit effort="10" velocity="10" lower="-1.5708" upper="1.5708"/>
  </joint>
  <!-- Joint from urdf_r_upper_arm_assembly to urdf_r_elbow_assembly -->
  <joint name="right_shoulder_yaw_joint_X4" type="revolute">
    <origin xyz="0 -0.17 0.041" rpy="-1.5708 -0 0"/>
    <parent link="urdf_r_upper_arm_assembly"/>
    <child link="urdf_r_elbow_assembly"/>
    <axis xyz="0 0 1"/>
    <limit effort="10" velocity="10" lower="-2.35619" upper="2.35619"/>
  </joint>
  <!-- Joint from urdf_r_shoulder_assembly to urdf_r_upper_arm_assembly -->
  <joint name="right_shoulder_roll_joint_X6" type="revolute">
    <origin xyz="0.041 0 -0.07" rpy="-3.14159 1.5708 0"/>
    <parent link="urdf_r_shoulder_assembly"/>
    <child link="urdf_r_upper_arm_assembly"/>
    <axis xyz="0 0 1"/>
    <limit effort="10" velocity="10" lower="0" upper="3.14159"/>
  </joint>
  <!-- Joint from urdf_simplified_torso_sub_assembly to urdf_r_shoulder_assembly -->
  <joint name="right_shoulder_pitch_joint_X6" type="revolute">
    <origin xyz="0.181502 -4.00839e-06 -0.427" rpy="1.5708 0 -1.5708"/>
    <parent link="urdf_simplified_torso_sub_assembly"/>
    <child link="urdf_r_shoulder_assembly"/>
    <axis xyz="0 0 1"/>
    <limit effort="10" velocity="10" lower="-3.14159" upper="1.5708"/>
  </joint>
  <!-- Joint from urdf_base to urdf_simplified_torso_sub_assembly -->
  <joint name="waist_yaw_joint" type="revolute">
    <origin xyz="0.000698852 0.0333787 -0.300748" rpy="3.14159 -0 0"/>
    <parent link="urdf_base"/>
    <child link="urdf_simplified_torso_sub_assembly"/>
    <axis xyz="0 0 1"/>
    <limit effort="10" velocity="10" lower="-1.5708" upper="1.5708"/>
  </joint>
  <!-- Link urdf_hip_assembly -->
  <link name="urdf_hip_assembly">
    <inertial>
      <origin xyz="-0.00420762 -6.23945e-06 -0.0689982" rpy="0 0 0"/>
      <mass value="1.73"/>
      <inertia ixx="0.00302301" ixy="4.5747e-08" ixz="-2.30858e-05" iyy="0.00263533" iyz="8.49179e-07" izz="0.00228746"/>
    </inertial>
    <!-- Part hip -->
    <visual>
      <origin xyz="0.00253653 -3.27638e-05 -0.0520203" rpy="-1.5708 -1.5708 0"/>
      <geometry>
        <mesh filename="meshes/visual/hip.stl"/>
      </geometry>
      <material name="hip_material">
        <color rgba="0.0627451 0.266667 0.490196 1"/>
      </material>
    </visual>
    <collision>
      <origin xyz="0.00253653 -3.27638e-05 -0.0520203" rpy="-1.5708 -1.5708 0"/>
      <geometry>
        <mesh filename="meshes/collision/hip.stl"/>
      </geometry>
    </collision>
    <!-- Part stator_x8_p20_120_unified_4 -->
    <visual>
      <origin xyz="-0.043 0 -0.073" rpy="0 1.5708 0"/>
      <geometry>
        <mesh filename="meshes/visual/stator_x8_p20_120_unified.stl"/>
      </geometry>
      <material name="stator_x8_p20_120_unified_4_material">
        <color rgba="0.882353 0.572549 0.478431 1"/>
      </material>
    </visual>
  </link>
  <!-- Link urdf_l_upper_femur_assembly -->
  <link name="urdf_l_upper_femur_assembly">
    <inertial>
      <origin xyz="-0.000406021 -0.148741 0.0457109" rpy="0 0 0"/>
      <mass value="1.912"/>
      <inertia ixx="0.0056213" ixy="5.24747e-05" ixz="1.15373e-06" iyy="0.00336495" iyz="0.000940749" izz="0.0051989"/>
    </inertial>
    <!-- Part l_upper_femur -->
    <visual>
      <origin xyz="-0.00151622 -0.111785 0.0257799" rpy="-1.5708 0 -0"/>
      <geometry>
        <mesh filename="meshes/visual/l_upper_femur.stl"/>
      </geometry>
      <material name="l_upper_femur_material">
        <color rgba="0.141176 0.694118 0.65098 1"/>
      </material>
    </visual>
    <collision>
      <origin xyz="-0.00151622 -0.111785 0.0257799" rpy="-1.5708 0 -0"/>
      <geometry>
        <mesh filename="meshes/collision/l_upper_femur.stl"/>
      </geometry>
    </collision>
    <!-- Part rotor_x8_p20_120 -->
    <visual>
      <origin xyz="0 -0.124 0.053" rpy="-1.5708 -0.420575 -3.14159"/>
      <geometry>
        <mesh filename="meshes/visual/rotor_x8_p20_120.stl"/>
      </geometry>
      <material name="rotor_x8_p20_120_material">
        <color rgba="0.596078 0.176471 0.0509804 1"/>
      </material>
    </visual>
    <!-- Part stator_x8_p20_120 -->
    <visual>
      <origin xyz="0 -0.124 0.053" rpy="1.5708 -0 0"/>
      <geometry>
        <mesh filename="meshes/visual/stator_x8_p20_120.stl"/>
      </geometry>
      <material name="stator_x8_p20_120_material">
        <color rgba="0.882353 0.572549 0.478431 1"/>
      </material>
    </visual>
  </link>
  <!-- Link urdf_lower_femur_assembly -->
  <link name="urdf_lower_femur_assembly">
    <inertial>
      <origin xyz="0.00357383 -1.0389e-08 -0.103307" rpy="0 0 0"/>
      <mass value="1.817"/>
      <inertia ixx="0.00421827" ixy="2.5e-11" ixz="0.00019709" iyy="0.00383469" iyz="-2.1291e-08" izz="0.00258541"/>
    </inertial>
    <!-- Part lower_femur -->
    <visual>
      <origin xyz="-0.00389134 5.752e-09 -0.070766" rpy="0 -0 -0"/>
      <geometry>
        <mesh filename="meshes/visual/lower_femur.stl"/>
      </geometry>
      <material name="lower_femur_material">
        <color rgba="0.380392 0.0470588 0.435294 1"/>
      </material>
    </visual>
    <collision>
      <origin xyz="-0.00389134 5.752e-09 -0.070766" rpy="0 -0 -0"/>
      <geometry>
        <mesh filename="meshes/collision/lower_femur.stl"/>
      </geometry>
    </collision>
    <!-- Part stator_x8_p20_120_unified_5 -->
    <visual>
      <origin xyz="0.043 0 -0.113" rpy="-0 -1.5708 0"/>
      <geometry>
        <mesh filename="meshes/visual/stator_x8_p20_120_unified.stl"/>
      </geometry>
      <material name="stator_x8_p20_120_unified_5_material">
        <color rgba="0.882353 0.572549 0.478431 1"/>
      </material>
    </visual>
  </link>
  <!-- Link urdf_l_tibia_assembly -->
  <link name="urdf_l_tibia_assembly">
    <inertial>
      <origin xyz="0.0151319 -0.253045 0.0519322" rpy="0 0 0"/>
      <mass value="4.89318"/>
      <inertia ixx="0.070962" ixy="0.00320068" ixz="-0.000216176" iyy="0.00924194" iyz="0.00255494" izz="0.0742001"/>
    </inertial>
    <!-- Part m6_threaded_bar_300mm -->
    <visual>
      <origin xyz="0.08085 -0.287625 0.0729994" rpy="-1.51492 0.191373 -0.0274192"/>
      <geometry>
        <mesh filename="meshes/visual/m6_threaded_bar_300mm.stl"/>
      </geometry>
      <material name="m6_threaded_bar_300mm_material">
        <color rgba="0.141176 0.0352941 0.396078 1"/>
      </material>
    </visual>
    <!-- Part m6_threaded_bar_225mm -->
    <visual>
      <origin xyz="0.08085 -0.325171 0.0360012" rpy="1.63833 -0.167879 3.07635"/>
      <geometry>
        <mesh filename="meshes/visual/m6_threaded_bar_225mm.stl"/>
      </geometry>
      <material name="m6_threaded_bar_225mm_material">
        <color rgba="0.27451 0.0117647 0.317647 1"/>
      </material>
    </visual>
    <!-- Part shoe -->
    <visual>
      <origin xyz="0.0303243 -0.449431 0.054" rpy="-1.5708 -1.5708 0"/>
      <geometry>
        <mesh filename="meshes/visual/shoe.stl"/>
      </geometry>
      <material name="shoe_material">
        <color rgba="0.0862745 0.321569 0.580392 1"/>
      </material>
    </visual>
    <collision>
      <origin xyz="0.0303243 -0.449431 0.054" rpy="-1.5708 -1.5708 0"/>
      <geometry>
        <mesh filename="meshes/collision/shoe.stl"/>
      </geometry>
    </collision>
    <!-- Part lower_fixation_leg_lontrol -->
    <visual>
      <origin xyz="0.0565 -0.424448 0.054" rpy="-1.5708 -1.5708 0"/>
      <geometry>
        <mesh filename="meshes/visual/lower_fixation_leg_lontrol.stl"/>
      </geometry>
      <material name="lower_fixation_leg_lontrol_material">
        <color rgba="0.615686 0.811765 0.929412 1"/>
      </material>
    </visual>
    <!-- Part foot -->
    <visual>
      <origin xyz="0.030138 -0.444982 0.054" rpy="-1.5708 -1.5708 0"/>
      <geometry>
        <mesh filename="meshes/visual/foot.stl"/>
      </geometry>
      <material name="foot_material">
        <color rgba="0.615686 0.811765 0.929412 1"/>
      </material>
    </visual>
    <collision>
      <origin xyz="0.030138 -0.444982 0.054" rpy="-1.5708 -1.5708 0"/>
      <geometry>
        <mesh filename="meshes/collision/foot.stl"/>
      </geometry>
    </collision>
    <!-- Part spacer_bottom_tibia -->
    <visual>
      <origin xyz="0 -0.3755 0.055" rpy="-1.5708 -1.5708 0"/>
      <geometry>
        <mesh filename="meshes/visual/spacer_bottom_tibia.stl"/>
      </geometry>
      <material name="spacer_bottom_tibia_material">
        <color rgba="0.615686 0.811765 0.929412 1"/>
      </material>
    </visual>
    <!-- Part l_tibia -->
    <visual>
      <origin xyz="0.000691668 -0.182574 0.0429128" rpy="-1.5708 -1.5708 0"/>
      <geometry>
        <mesh filename="meshes/visual/l_tibia.stl"/>
      </geometry>
      <material name="l_tibia_material">
        <color rgba="0.513725 0.415686 0.733333 1"/>
      </material>
    </visual>
    <collision>
      <origin xyz="0.000691668 -0.182574 0.0429128" rpy="-1.5708 -1.5708 0"/>
      <geometry>
        <mesh filename="meshes/collision/l_tibia.stl"/>
      </geometry>
    </collision>
    <!-- Part m6_threaded_eye -->
    <visual>
      <origin xyz="0.076 -0.415 0.042" rpy="-3.14159 -1.5708 0"/>
      <geometry>
        <mesh filename="meshes/visual/m6_threaded_eye.stl"/>
      </geometry>
      <material name="m6_threaded_eye_material">
        <color rgba="0.615686 0.811765 0.929412 1"/>
      </material>
    </visual>
    <!-- Part 12_7mm_ball_with_6mm_hole -->
    <visual>
      <origin xyz="0.076 -0.415 0.042" rpy="2.76264 -1.38996 0.319398"/>
      <geometry>
        <mesh filename="meshes/visual/12_7mm_ball_with_6mm_hole.stl"/>
      </geometry>
      <material name="12_7mm_ball_with_6mm_hole_material">
        <color rgba="0.647059 0.647059 0.647059 1"/>
      </material>
    </visual>
    <!-- Part rulment_d22_x_d8_x_t7 -->
    <visual>
      <origin xyz="0.0165 -0.423 0.054" rpy="1.5708 -1.5708 0"/>
      <geometry>
        <mesh filename="meshes/visual/rulment_d22_x_d8_x_t7.stl"/>
      </geometry>
      <material name="rulment_d22_x_d8_x_t7_material">
        <color rgba="0.901961 0.901961 0.901961 1"/>
      </material>
    </visual>
    <!-- Part ankle_bearing_house -->
    <visual>
      <origin xyz="0.0191799 -0.428357 0.054" rpy="-1.5708 -1.5708 0"/>
      <geometry>
        <mesh filename="meshes/visual/ankle_bearing_house.stl"/>
      </geometry>
      <material name="ankle_bearing_house_material">
        <color rgba="0.615686 0.811765 0.929412 1"/>
      </material>
    </visual>
    <!-- Part m6_threaded_eye_2 -->
    <visual>
      <origin xyz="0.076 -0.415 0.066" rpy="-3.14159 -1.5708 0"/>
      <geometry>
        <mesh filename="meshes/visual/m6_threaded_eye.stl"/>
      </geometry>
      <material name="m6_threaded_eye_2_material">
        <color rgba="0.615686 0.811765 0.929412 1"/>
      </material>
    </visual>
    <!-- Part 12_7mm_ball_with_6mm_hole_2 -->
    <visual>
      <origin xyz="0.076 -0.415 0.066" rpy="-3.08572 0.191373 -0.0274192"/>
      <geometry>
        <mesh filename="meshes/visual/12_7mm_ball_with_6mm_hole.stl"/>
      </geometry>
      <material name="12_7mm_ball_with_6mm_hole_2_material">
        <color rgba="0.647059 0.647059 0.647059 1"/>
      </material>
    </visual>
    <!-- Part rulment_d22_x_d8_x_t7_2 -->
    <visual>
      <origin xyz="-0.0165 -0.423 0.054" rpy="1.5708 1.5708 0"/>
      <geometry>
        <mesh filename="meshes/visual/rulment_d22_x_d8_x_t7.stl"/>
      </geometry>
      <material name="rulment_d22_x_d8_x_t7_2_material">
        <color rgba="0.901961 0.901961 0.901961 1"/>
      </material>
    </visual>
    <!-- Part ankle_bearing_house_2 -->
    <visual>
      <origin xyz="-0.0191799 -0.428357 0.054" rpy="-1.5708 1.5708 0"/>
      <geometry>
        <mesh filename="meshes/visual/ankle_bearing_house.stl"/>
      </geometry>
      <material name="ankle_bearing_house_2_material">
        <color rgba="0.615686 0.811765 0.929412 1"/>
      </material>
    </visual>
    <!-- Part rulment_d22_x_d8_x_t7_3 -->
    <visual>
      <origin xyz="0 -0.395 0.0445" rpy="1.5708 0 -3.14159"/>
      <geometry>
        <mesh filename="meshes/visual/rulment_d22_x_d8_x_t7.stl"/>
      </geometry>
      <material name="rulment_d22_x_d8_x_t7_3_material">
        <color rgba="0.901961 0.901961 0.901961 1"/>
      </material>
    </visual>
    <!-- Part ankle_bearing_house_3 -->
    <visual>
      <origin xyz="-0 -0.389643 0.0418201" rpy="-1.5708 0 -3.14159"/>
      <geometry>
        <mesh filename="meshes/visual/ankle_bearing_house.stl"/>
      </geometry>
      <material name="ankle_bearing_house_3_material">
        <color rgba="0.615686 0.811765 0.929412 1"/>
      </material>
    </visual>
    <!-- Part rotor_x4_p36_36 -->
    <visual>
      <origin xyz="-0.018 -0.16 0.055" rpy="3.14159 -1.5708 0"/>
      <geometry>
        <mesh filename="meshes/visual/rotor_x4_p36_36.stl"/>
      </geometry>
      <material name="rotor_x4_p36_36_material">
        <color rgba="0.380392 0.0470588 0.435294 1"/>
      </material>
    </visual>
    <!-- Part stator_x4_p36_36 -->
    <visual>
      <origin xyz="-0.018 -0.16 0.055" rpy="3.14159 -1.5708 0"/>
      <geometry>
        <mesh filename="meshes/visual/stator_x4_p36_36.stl"/>
      </geometry>
      <material name="stator_x4_p36_36_material">
        <color rgba="0.764706 0.545098 0.803922 1"/>
      </material>
    </visual>
    <!-- Part rotor_x4_p36_36_2 -->
    <visual>
      <origin xyz="-0.018 -0.235 0.055" rpy="-0 1.5708 0"/>
      <geometry>
        <mesh filename="meshes/visual/rotor_x4_p36_36.stl"/>
      </geometry>
      <material name="rotor_x4_p36_36_2_material">
        <color rgba="0.380392 0.0470588 0.435294 1"/>
      </material>
    </visual>
    <!-- Part stator_x4_p36_36_2 -->
    <visual>
      <origin xyz="-0.018 -0.235 0.055" rpy="-0 1.5708 0"/>
      <geometry>
        <mesh filename="meshes/visual/stator_x4_p36_36.stl"/>
      </geometry>
      <material name="stator_x4_p36_36_2_material">
        <color rgba="0.764706 0.545098 0.803922 1"/>
      </material>
    </visual>
    <!-- Part rulment_d22_x_d8_x_t7_4 -->
    <visual>
      <origin xyz="-0 -0.395 0.0655" rpy="-1.5708 0 0"/>
      <geometry>
        <mesh filename="meshes/visual/rulment_d22_x_d8_x_t7.stl"/>
      </geometry>
      <material name="rulment_d22_x_d8_x_t7_4_material">
        <color rgba="0.901961 0.901961 0.901961 1"/>
      </material>
    </visual>
    <!-- Part ankle_bearing_house_4 -->
    <visual>
      <origin xyz="0 -0.389643 0.0681799" rpy="1.5708 -0 -0"/>
      <geometry>
        <mesh filename="meshes/visual/ankle_bearing_house.stl"/>
      </geometry>
      <material name="ankle_bearing_house_4_material">
        <color rgba="0.615686 0.811765 0.929412 1"/>
      </material>
    </visual>
    <!-- Part lever_ankle -->
    <visual>
      <origin xyz="0.066 -0.235073 0.0496487" rpy="-0 -1.5571 1.5708"/>
      <geometry>
        <mesh filename="meshes/visual/lever_ankle.stl"/>
      </geometry>
      <material name="lever_ankle_material">
        <color rgba="0.615686 0.811765 0.929412 1"/>
      </material>
    </visual>
    <!-- Part hex_nut_grade_a___b_m6x1__7468f1fe59412d2a2604ecf8e993c3bf -->
    <visual>
      <origin xyz="0.0701 -0.235342 0.0300023" rpy="1.5708 -1.5571 1.5708"/>
      <geometry>
        <mesh filename="meshes/visual/hex_nut_grade_a___b_m6x1__7468f1fe59412d2a2604ecf8e993c3bf.stl"/>
      </geometry>
      <material name="hex_nut_grade_a___b_m6x1__7468f1fe59412d2a2604ecf8e993c3bf_material">
        <color rgba="0.603922 0.647059 0.686275 1"/>
      </material>
    </visual>
    <!-- Part spacer_lever_ankle -->
    <visual>
      <origin xyz="0.05375 -0.235 0.055" rpy="-0 -1.5571 1.5708"/>
      <geometry>
        <mesh filename="meshes/visual/spacer_lever_ankle.stl"/>
      </geometry>
      <material name="spacer_lever_ankle_material">
        <color rgba="0.615686 0.811765 0.929412 1"/>
      </material>
    </visual>
    <!-- Part lever_ankle_2 -->
    <visual>
      <origin xyz="0.066 -0.160053 0.0603516" rpy="0 1.5608 1.5708"/>
      <geometry>
        <mesh filename="meshes/visual/lever_ankle.stl"/>
      </geometry>
      <material name="lever_ankle_2_material">
        <color rgba="0.615686 0.811765 0.929412 1"/>
      </material>
    </visual>
    <!-- Part hex_nut_grade_a___b_m6x1__7468f1fe59412d2a2604ecf8e993c3bf_2 -->
    <visual>
      <origin xyz="0.0701 -0.16025 0.0799988" rpy="1.5708 1.5608 1.5708"/>
      <geometry>
        <mesh filename="meshes/visual/hex_nut_grade_a___b_m6x1__7468f1fe59412d2a2604ecf8e993c3bf.stl"/>
      </geometry>
      <material name="hex_nut_grade_a___b_m6x1__7468f1fe59412d2a2604ecf8e993c3bf_2_material">
        <color rgba="0.603922 0.647059 0.686275 1"/>
      </material>
    </visual>
    <!-- Part spacer_lever_ankle_2 -->
    <visual>
      <origin xyz="0.05375 -0.16 0.055" rpy="-0 1.5608 1.5708"/>
      <geometry>
        <mesh filename="meshes/visual/spacer_lever_ankle.stl"/>
      </geometry>
      <material name="spacer_lever_ankle_2_material">
        <color rgba="0.615686 0.811765 0.929412 1"/>
      </material>
    </visual>
    <!-- Part m6_threaded_eye_3 -->
    <visual>
      <origin xyz="0.0857 -0.235342 0.0300023" rpy="1.5708 -1.5571 1.5708"/>
      <geometry>
        <mesh filename="meshes/visual/m6_threaded_eye.stl"/>
      </geometry>
      <material name="m6_threaded_eye_3_material">
        <color rgba="0.615686 0.811765 0.929412 1"/>
      </material>
    </visual>
    <!-- Part 12_7mm_ball_with_6mm_hole_3 -->
    <visual>
      <origin xyz="0.0857 -0.235342 0.0300023" rpy="0.0675358 -0.167879 3.07635"/>
      <geometry>
        <mesh filename="meshes/visual/12_7mm_ball_with_6mm_hole.stl"/>
      </geometry>
      <material name="12_7mm_ball_with_6mm_hole_3_material">
        <color rgba="0.647059 0.647059 0.647059 1"/>
      </material>
    </visual>
    <!-- Part m6_threaded_eye_4 -->
    <visual>
      <origin xyz="0.0857 -0.16025 0.0799988" rpy="1.5708 1.5608 1.5708"/>
      <geometry>
        <mesh filename="meshes/visual/m6_threaded_eye.stl"/>
      </geometry>
      <material name="m6_threaded_eye_4_material">
        <color rgba="0.615686 0.811765 0.929412 1"/>
      </material>
    </visual>
    <!-- Part 12_7mm_ball_with_6mm_hole_4 -->
    <visual>
      <origin xyz="0.0857 -0.16025 0.0799988" rpy="3.08572 -0.191373 3.11417"/>
      <geometry>
        <mesh filename="meshes/visual/12_7mm_ball_with_6mm_hole.stl"/>
      </geometry>
      <material name="12_7mm_ball_with_6mm_hole_4_material">
        <color rgba="0.647059 0.647059 0.647059 1"/>
      </material>
    </visual>
  </link>
  <!-- Link ankle_assembly -->
  <link name="ankle_assembly">
    <inertial>
      <origin xyz="-0 0.0125447 -0.024" rpy="0 0 0"/>
      <mass value="0.0816337"/>
      <inertia ixx="1.68911e-05" ixy="-0" ixz="0" iyy="1.24715e-05" iyz="-0" izz="2.14344e-05"/>
    </inertial>
    <!-- Part upper_ankle_shaft -->
    <visual>
      <origin xyz="0 0 -0.024" rpy="1.5708 1.5708 0"/>
      <geometry>
        <mesh filename="meshes/visual/upper_ankle_shaft.stl"/>
      </geometry>
      <material name="upper_ankle_shaft_material">
        <color rgba="0.615686 0.811765 0.929412 1"/>
      </material>
    </visual>
    <collision>
      <origin xyz="0 0 -0.024" rpy="1.5708 1.5708 0"/>
      <geometry>
        <mesh filename="meshes/collision/upper_ankle_shaft.stl"/>
      </geometry>
    </collision>
    <!-- Part ankle_ear -->
    <visual>
      <origin xyz="-0 0.00917229 -0.024" rpy="1.5708 1.5708 0"/>
      <geometry>
        <mesh filename="meshes/visual/ankle_ear.stl"/>
      </geometry>
      <material name="ankle_ear_material">
        <color rgba="0.615686 0.811765 0.929412 1"/>
      </material>
    </visual>
    <collision>
      <origin xyz="-0 0.00917229 -0.024" rpy="1.5708 1.5708 0"/>
      <geometry>
        <mesh filename="meshes/collision/ankle_ear.stl"/>
      </geometry>
    </collision>
    <!-- Part ankle_shaft -->
    <visual>
      <origin xyz="-0 0.028 -0.024" rpy="1.5708 1.5708 0"/>
      <geometry>
        <mesh filename="meshes/visual/ankle_shaft.stl"/>
      </geometry>
      <material name="ankle_shaft_material">
        <color rgba="0.615686 0.811765 0.929412 1"/>
      </material>
    </visual>
    <collision>
      <origin xyz="-0 0.028 -0.024" rpy="1.5708 1.5708 0"/>
      <geometry>
        <mesh filename="meshes/collision/ankle_shaft.stl"/>
      </geometry>
    </collision>
  </link>
  <!-- Joint from urdf_l_tibia_assembly to ankle_assembly -->
  <joint name="left_ankle_pitch_joint" type="revolute">
    <origin xyz="-0 -0.395 0.03" rpy="-3.14159 0 0"/>
    <parent link="urdf_l_tibia_assembly"/>
    <child link="ankle_assembly"/>
    <axis xyz="0 0 1"/>
    <limit effort="10" velocity="10" lower="-0.785398" upper="0.785398"/>
  </joint>
  <!-- Link ankle_assembly_2 -->
  <link name="ankle_assembly_2">
    <inertial>
      <origin xyz="-0 0.0125447 -0.024" rpy="0 0 0"/>
      <mass value="0.0816337"/>
      <inertia ixx="1.68911e-05" ixy="-0" ixz="0" iyy="1.24715e-05" iyz="-0" izz="2.14344e-05"/>
    </inertial>
    <!-- Part upper_ankle_shaft_2 -->
    <visual>
      <origin xyz="0 0 -0.024" rpy="1.5708 1.5708 0"/>
      <geometry>
        <mesh filename="meshes/visual/upper_ankle_shaft.stl"/>
      </geometry>
      <material name="upper_ankle_shaft_2_material">
        <color rgba="0.615686 0.811765 0.929412 1"/>
      </material>
    </visual>
    <collision>
      <origin xyz="0 0 -0.024" rpy="1.5708 1.5708 0"/>
      <geometry>
        <mesh filename="meshes/collision/upper_ankle_shaft.stl"/>
      </geometry>
    </collision>
    <!-- Part ankle_ear_2 -->
    <visual>
      <origin xyz="-0 0.00917229 -0.024" rpy="1.5708 1.5708 0"/>
      <geometry>
        <mesh filename="meshes/visual/ankle_ear.stl"/>
      </geometry>
      <material name="ankle_ear_2_material">
        <color rgba="0.615686 0.811765 0.929412 1"/>
      </material>
    </visual>
    <collision>
      <origin xyz="-0 0.00917229 -0.024" rpy="1.5708 1.5708 0"/>
      <geometry>
        <mesh filename="meshes/collision/ankle_ear.stl"/>
      </geometry>
    </collision>
    <!-- Part ankle_shaft_2 -->
    <visual>
      <origin xyz="-0 0.028 -0.024" rpy="1.5708 1.5708 0"/>
      <geometry>
        <mesh filename="meshes/visual/ankle_shaft.stl"/>
      </geometry>
      <material name="ankle_shaft_2_material">
        <color rgba="0.615686 0.811765 0.929412 1"/>
      </material>
    </visual>
    <collision>
      <origin xyz="-0 0.028 -0.024" rpy="1.5708 1.5708 0"/>
      <geometry>
        <mesh filename="meshes/collision/ankle_shaft.stl"/>
      </geometry>
    </collision>
  </link>
  <!-- Joint from urdf_l_tibia_assembly to ankle_assembly_2 (parallel linkage, fixed) -->
  <joint name="left_ankle_pitch_joint_2" type="fixed">
    <origin xyz="-0 -0.395 0.03" rpy="-3.14159 0 0"/>
    <parent link="urdf_l_tibia_assembly"/>
    <child link="ankle_assembly_2"/>
  </joint>
  <!-- Joint from urdf_lower_femur_assembly to urdf_l_tibia_assembly -->
  <joint name="left_knee_joint" type="revolute">
    <origin xyz="-0.055 -0 -0.113" rpy="1.5708 0 1.5708"/>
    <parent link="urdf_lower_femur_assembly"/>
    <child link="urdf_l_tibia_assembly"/>
    <axis xyz="0 0 1"/>
    <limit effort="10" velocity="10" lower="0" upper="1.5708"/>
  </joint>
  <!-- Joint from urdf_l_upper_femur_assembly to urdf_lower_femur_assembly -->
  <joint name="left_hip_yaw_joint" type="revolute">
    <origin xyz="-0 -0.217 0.053" rpy="-1.5708 0 -0"/>
    <parent link="urdf_l_upper_femur_assembly"/>
    <child link="urdf_lower_femur_assembly"/>
    <axis xyz="0 0 1"/>
    <limit effort="10" velocity="10" lower="-1.5708" upper="1.5708"/>
  </joint>
  <!-- Joint from urdf_hip_assembly to urdf_l_upper_femur_assembly -->
  <joint name="left_hip_roll_joint" type="revolute">
    <origin xyz="0.055 0 -0.073" rpy="-0 -1.5708 0"/>
    <parent link="urdf_hip_assembly"/>
    <child link="urdf_l_upper_femur_assembly"/>
    <axis xyz="0 0 1"/>
    <limit effort="10" velocity="10" lower="-3.14159" upper="0.349066"/>
  </joint>
  <!-- Joint from urdf_base to urdf_hip_assembly -->
  <joint name="left_hip_pitch_joint" type="revolute">
    <origin xyz="-0.111301 0.0333787 -0.467748" rpy="1.5708 0 1.5708"/>
    <parent link="urdf_base"/>
    <child link="urdf_hip_assembly"/>
    <axis xyz="0 0 1"/>
    <limit effort="10" velocity="10" lower="-1.5708" upper="2.53073"/>
  </joint>
  <!-- Link urdf_hip_assembly_2 -->
  <link name="urdf_hip_assembly_2">
    <inertial>
      <origin xyz="-0.00420719 6.05312e-05 -0.0739982" rpy="0 0 0"/>
      <mass value="1.73"/>
      <inertia ixx="0.00302291" ixy="-6.10556e-06" ixz="-2.30694e-05" iyy="0.00263542" iyz="1.21542e-06" izz="0.00228746"/>
    </inertial>
    <!-- Part hip_2 -->
    <visual>
      <origin xyz="0.00253569 -7.30113e-05 -0.0570203" rpy="-1.58667 -1.5708 0"/>
      <geometry>
        <mesh filename="meshes/visual/hip.stl"/>
      </geometry>
      <material name="hip_2_material">
        <color rgba="0.0627451 0.266667 0.490196 1"/>
      </material>
    </visual>
    <collision>
      <origin xyz="0.00253569 -7.30113e-05 -0.0570203" rpy="-1.58667 -1.5708 0"/>
      <geometry>
        <mesh filename="meshes/collision/hip.stl"/>
      </geometry>
    </collision>
    <!-- Part stator_x8_p20_120_unified_6 -->
    <visual>
      <origin xyz="-0.0429946 0.000682358 -0.078" rpy="0.0158695 1.5708 0"/>
      <geometry>
        <mesh filename="meshes/visual/stator_x8_p20_120_unified.stl"/>
      </geometry>
      <material name="stator_x8_p20_120_unified_6_material">
        <color rgba="0.882353 0.572549 0.478431 1"/>
      </material>
    </visual>
  </link>
  <!-- Link urdf_r_upper_femur_assemby -->
  <link name="urdf_r_upper_femur_assemby">
    <inertial>
      <origin xyz="0.000405705 -0.147963 0.0457092" rpy="0 0 0"/>
      <mass value="1.912"/>
      <inertia ixx="0.00557422" ixy="-5.18237e-05" ixz="-1.24938e-06" iyy="0.00336736" iyz="0.000930579" izz="0.00513139"/>
    </inertial>
    <!-- Part r_upper_femur -->
    <visual>
      <origin xyz="0.00151505 -0.111761 0.0257733" rpy="-1.5708 0 0"/>
      <geometry>
        <mesh filename="meshes/visual/r_upper_femur.stl"/>
      </geometry>
      <material name="r_upper_femur_material">
        <color rgba="0.941176 0.87451 0.678431 1"/>
      </material>
    </visual>
    <collision>
      <origin xyz="0.00151505 -0.111761 0.0257733" rpy="-1.5708 0 0"/>
      <geometry>
        <mesh filename="meshes/collision/r_upper_femur.stl"/>
      </geometry>
    </collision>
    <!-- Part stator_x8_p20_120_unified_7 -->
    <visual>
      <origin xyz="-0 -0.124 0.053" rpy="1.5708 0 0"/>
      <geometry>
        <mesh filename="meshes/visual/stator_x8_p20_120_unified.stl"/>
      </geometry>
      <material name="stator_x8_p20_120_unified_7_material">
        <color rgba="0.882353 0.572549 0.478431 1"/>
      </material>
    </visual>
  </link>
  <!-- Link urdf_lower_femur_assembly_2 -->
  <link name="urdf_lower_femur_assembly_2">
    <inertial>
      <origin xyz="-0.00357383 -7.8699e-08 -0.103307" rpy="0 0 0"/>
      <mass value="1.817"/>
      <inertia ixx="0.00421827" ixy="9.586e-09" ixz="-0.00019709" iyy="0.00383469" iyz="1.6378e-08" izz="0.00258541"/>
    </inertial>
    <!-- Part lower_femur_2 -->
    <visual>
      <origin xyz="0.00389134 9.125e-08 -0.070766" rpy="0 0 -3.14157"/>
      <geometry>
        <mesh filename="meshes/visual/lower_femur.stl"/>
      </geometry>
      <material name="lower_femur_2_material">
        <color rgba="0.380392 0.0470588 0.435294 1"/>
      </material>
    </visual>
    <collision>
      <origin xyz="0.00389134 9.125e-08 -0.070766" rpy="0 0 -3.14157"/>
      <geometry>
        <mesh filename="meshes/collision/lower_femur.stl"/>
      </geometry>
    </collision>
    <!-- Part stator_x8_p20_120_unified_8 -->
    <visual>
      <origin xyz="-0.043 -1.07189e-06 -0.113" rpy="-3.14157 -1.5708 0"/>
      <geometry>
        <mesh filename="meshes/visual/stator_x8_p20_120_unified.stl"/>
      </geometry>
      <material name="stator_x8_p20_120_unified_8_material">
        <color rgba="0.882353 0.572549 0.478431 1"/>
      </material>
    </visual>
  </link>
  <!-- Link urdf_r_tibia_assembly -->
  <link name="urdf_r_tibia_assembly">
    <inertial>
      <origin xyz="0.0167514 0.277184 0.0511723" rpy="0 0 0"/>
      <mass value="3.4106"/>
      <inertia ixx="0.0617297" ixy="-0.00276105" ixz="-0.000269665" iyy="0.00850807" iyz="-0.00321845" izz="0.0648035"/>
    </inertial>
    <!-- Part m6_threaded_bar_225mm_2 -->
    <visual>
      <origin xyz="0.08085 0.325243 0.0370024" rpy="1.6485 -0.0197641 0.0524438"/>
      <geometry>
        <mesh filename="meshes/visual/m6_threaded_bar_225mm.stl"/>
      </geometry>
      <material name="m6_threaded_bar_225mm_2_material">
        <color rgba="0.27451 0.0117647 0.317647 1"/>
      </material>
    </visual>
    <!-- Part m6_threaded_bar_300mm_2 -->
    <visual>
      <origin xyz="0.08085 0.287574 0.0739998" rpy="1.4538 -1.15642 0.145218"/>
      <geometry>
        <mesh filename="meshes/visual/m6_threaded_bar_300mm.stl"/>
      </geometry>
      <material name="m6_threaded_bar_300mm_2_material">
        <color rgba="0.141176 0.0352941 0.396078 1"/>
      </material>
    </visual>
    <!-- Part r_tibia -->
    <visual>
      <origin xyz="0.000691468 0.182554 0.0429159" rpy="1.5708 1.5708 0"/>
      <geometry>
        <mesh filename="meshes/visual/r_tibia.stl"/>
      </geometry>
      <material name="r_tibia_material">
        <color rgba="0.654902 0.823529 0.576471 1"/>
      </material>
    </visual>
    <collision>
      <origin xyz="0.000691468 0.182554 0.0429159" rpy="1.5708 1.5708 0"/>
      <geometry>
        <mesh filename="meshes/collision/r_tibia.stl"/>
      </geometry>
    </collision>
    <!-- Part stator_x4_p36_36_unified_7 -->
    <visual>
      <origin xyz="-0.018 0.16 0.055" rpy="-0 1.5708 0"/>
      <geometry>
        <mesh filename="meshes/visual/stator_x4_p36_36_unified.stl"/>
      </geometry>
      <material name="stator_x4_p36_36_unified_7_material">
        <color rgba="0.764706 0.545098 0.803922 1"/>
      </material>
    </visual>
    <!-- Part spacer_bottom_tibia_2 -->
    <visual>
      <origin xyz="-0 0.3755 0.055" rpy="1.5708 1.5708 0"/>
      <geometry>
        <mesh filename="meshes/visual/spacer_bottom_tibia.stl"/>
      </geometry>
      <material name="spacer_bottom_tibia_2_material">
        <color rgba="0.615686 0.811765 0.929412 1"/>
      </material>
    </visual>
    <!-- Part stator_x4_p36_36_unified_8 -->
    <visual>
      <origin xyz="-0.018 0.235 0.055" rpy="3.14159 -1.5708 0"/>
      <geometry>
        <mesh filename="meshes/visual/stator_x4_p36_36_unified.stl"/>
      </geometry>
      <material name="stator_x4_p36_36_unified_8_material">
        <color rgba="0.764706 0.545098 0.803922 1"/>
      </material>
    </visual>
    <!-- Part shoe_2 -->
    <visual>
      <origin xyz="0.0303243 0.449431 0.056" rpy="1.5708 1.5708 0"/>
      <geometry>
        <mesh filename="meshes/visual/shoe.stl"/>
      </geometry>
      <material name="shoe_2_material">
        <color rgba="0.0862745 0.321569 0.580392 1"/>
      </material>
    </visual>
    <collision>
      <origin xyz="0.0303243 0.449431 0.056" rpy="1.5708 1.5708 0"/>
      <geometry>
        <mesh filename="meshes/collision/shoe.stl"/>
      </geometry>
    </collision>
    <!-- Part lower_fixation_leg_lontrol_2 -->
    <visual>
      <origin xyz="0.0565 0.424448 0.056" rpy="1.5708 1.5708 0"/>
      <geometry>
        <mesh filename="meshes/visual/lower_fixation_leg_lontrol.stl"/>
      </geometry>
      <material name="lower_fixation_leg_lontrol_2_material">
        <color rgba="0.615686 0.811765 0.929412 1"/>
      </material>
    </visual>
    <!-- Part foot_2 -->
    <visual>
      <origin xyz="0.030138 0.444982 0.056" rpy="1.5708 1.5708 0"/>
      <geometry>
        <mesh filename="meshes/visual/foot.stl"/>
      </geometry>
      <material name="foot_2_material">
        <color rgba="0.615686 0.811765 0.929412 1"/>
      </material>
    </visual>
    <collision>
      <origin xyz="0.030138 0.444982 0.056" rpy="1.5708 1.5708 0"/>
      <geometry>
        <mesh filename="meshes/collision/foot.stl"/>
      </geometry>
    </collision>
    <!-- Part lever_ankle_3 -->
    <visual>
      <origin xyz="0.066 0.235104 0.0496492" rpy="3.14159 -1.55132 -1.5708"/>
      <geometry>
        <mesh filename="meshes/visual/lever_ankle.stl"/>
      </geometry>
      <material name="lever_ankle_3_material">
        <color rgba="0.615686 0.811765 0.929412 1"/>
      </material>
    </visual>
    <!-- Part hex_nut_grade_a___b_m6x1__7468f1fe59412d2a2604ecf8e993c3bf_3 -->
    <visual>
      <origin xyz="0.0701 0.235487 0.0300047" rpy="-1.5708 -1.55132 -1.5708"/>
      <geometry>
        <mesh filename="meshes/visual/hex_nut_grade_a___b_m6x1__7468f1fe59412d2a2604ecf8e993c3bf.stl"/>
      </geometry>
      <material name="hex_nut_grade_a___b_m6x1__7468f1fe59412d2a2604ecf8e993c3bf_3_material">
        <color rgba="0.603922 0.647059 0.686275 1"/>
      </material>
    </visual>
    <!-- Part spacer_lever_ankle_3 -->
    <visual>
      <origin xyz="0.05375 0.235 0.055" rpy="3.14159 -1.55132 -1.5708"/>
      <geometry>
        <mesh filename="meshes/visual/spacer_lever_ankle.stl"/>
      </geometry>
      <material name="spacer_lever_ankle_3_material">
        <color rgba="0.615686 0.811765 0.929412 1"/>
      </material>
    </visual>
    <!-- Part rulment_d22_x_d8_x_t7_5 -->
    <visual>
      <origin xyz="-0 0.395 0.0655" rpy="-1.5708 0 3.14159"/>
      <geometry>
        <mesh filename="meshes/visual/rulment_d22_x_d8_x_t7.stl"/>
      </geometry>
      <material name="rulment_d22_x_d8_x_t7_5_material">
        <color rgba="0.901961 0.901961 0.901961 1"/>
      </material>
    </visual>
    <!-- Part ankle_bearing_house_5 -->
    <visual>
      <origin xyz="0 0.389643 0.0681799" rpy="1.5708 -0 -3.14159"/>
      <geometry>
        <mesh filename="meshes/visual/ankle_bearing_house.stl"/>
      </geometry>
      <material name="ankle_bearing_house_5_material">
        <color rgba="0.615686 0.811765 0.929412 1"/>
      </material>
    </visual>
    <!-- Part lever_ankle_4 -->
    <visual>
      <origin xyz="0.066 0.160032 0.0603518" rpy="3.14159 1.56488 -1.5708"/>
      <geometry>
        <mesh filename="meshes/visual/lever_ankle.stl"/>
      </geometry>
      <material name="lever_ankle_4_material">
        <color rgba="0.615686 0.811765 0.929412 1"/>
      </material>
    </visual>
    <!-- Part hex_nut_grade_a___b_m6x1__7468f1fe59412d2a2604ecf8e993c3bf_4 -->
    <visual>
      <origin xyz="0.0701 0.160148 0.0799996" rpy="-1.5708 1.56488 -1.5708"/>
      <geometry>
        <mesh filename="meshes/visual/hex_nut_grade_a___b_m6x1__7468f1fe59412d2a2604ecf8e993c3bf.stl"/>
      </geometry>
      <material name="hex_nut_grade_a___b_m6x1__7468f1fe59412d2a2604ecf8e993c3bf_4_material">
        <color rgba="0.603922 0.647059 0.686275 1"/>
      </material>
    </visual>
    <!-- Part spacer_lever_ankle_4 -->
    <visual>
      <origin xyz="0.05375 0.16 0.055" rpy="-3.14159 1.56488 -1.5708"/>
      <geometry>
        <mesh filename="meshes/visual/spacer_lever_ankle.stl"/>
      </geometry>
      <material name="spacer_lever_ankle_4_material">
        <color rgba="0.615686 0.811765 0.929412 1"/>
      </material>
    </visual>
    <!-- Part rulment_d22_x_d8_x_t7_6 -->
    <visual>
      <origin xyz="0 0.395 0.0445" rpy="1.5708 0 -0"/>
      <geometry>
        <mesh filename="meshes/visual/rulment_d22_x_d8_x_t7.stl"/>
      </geometry>
      <material name="rulment_d22_x_d8_x_t7_6_material">
        <color rgba="0.901961 0.901961 0.901961 1"/>
      </material>
    </visual>
    <!-- Part ankle_bearing_house_6 -->
    <visual>
      <origin xyz="0 0.389643 0.0418201" rpy="-1.5708 0 0"/>
      <geometry>
        <mesh filename="meshes/visual/ankle_bearing_house.stl"/>
      </geometry>
      <material name="ankle_bearing_house_6_material">
        <color rgba="0.615686 0.811765 0.929412 1"/>
      </material>
    </visual>
    <!-- Part m6_threaded_eye_5 -->
    <visual>
      <origin xyz="0.076 0.415 0.068" rpy="0 1.5708 0"/>
      <geometry>
        <mesh filename="meshes/visual/m6_threaded_eye.stl"/>
      </geometry>
      <material name="m6_threaded_eye_5_material">
        <color rgba="0.615686 0.811765 0.929412 1"/>
      </material>
    </visual>
    <!-- Part 12_7mm_ball_with_6mm_hole_5 -->
    <visual>
      <origin xyz="0.076 0.415 0.068" rpy="-3.09029 -0.411373 -3.12408"/>
      <geometry>
        <mesh filename="meshes/visual/12_7mm_ball_with_6mm_hole.stl"/>
      </geometry>
      <material name="12_7mm_ball_with_6mm_hole_5_material">
        <color rgba="0.647059 0.647059 0.647059 1"/>
      </material>
    </visual>
    <!-- Part rulment_d22_x_d8_x_t7_7 -->
    <visual>
      <origin xyz="0.0165 0.423 0.056" rpy="-1.5708 1.5708 0"/>
      <geometry>
        <mesh filename="meshes/visual/rulment_d22_x_d8_x_t7.stl"/>
      </geometry>
      <material name="rulment_d22_x_d8_x_t7_7_material">
        <color rgba="0.901961 0.901961 0.901961 1"/>
      </material>
    </visual>
    <!-- Part ankle_bearing_house_7 -->
    <visual>
      <origin xyz="0.0191799 0.428357 0.056" rpy="1.5708 1.5708 0"/>
      <geometry>
        <mesh filename="meshes/visual/ankle_bearing_house.stl"/>
      </geometry>
      <material name="ankle_bearing_house_7_material">
        <color rgba="0.615686 0.811765 0.929412 1"/>
      </material>
    </visual>
    <!-- Part m6_threaded_eye_6 -->
    <visual>
      <origin xyz="0.076 0.415 0.044" rpy="0 1.5708 0"/>
      <geometry>
        <mesh filename="meshes/visual/m6_threaded_eye.stl"/>
      </geometry>
      <material name="m6_threaded_eye_6_material">
        <color rgba="0.615686 0.811765 0.929412 1"/>
      </material>
    </visual>
    <!-- Part 12_7mm_ball_with_6mm_hole_6 -->
    <visual>
      <origin xyz="0.076 0.415 0.044" rpy="1.82013 -1.49062 -1.76692"/>
      <geometry>
        <mesh filename="meshes/visual/12_7mm_ball_with_6mm_hole.stl"/>
      </geometry>
      <material name="12_7mm_ball_with_6mm_hole_6_material">
        <color rgba="0.647059 0.647059 0.647059 1"/>
      </material>
    </visual>
    <!-- Part rulment_d22_x_d8_x_t7_8 -->
    <visual>
      <origin xyz="-0.0165 0.423 0.056" rpy="-1.5708 -1.5708 0"/>
      <geometry>
        <mesh filename="meshes/visual/rulment_d22_x_d8_x_t7.stl"/>
      </geometry>
      <material name="rulment_d22_x_d8_x_t7_8_material">
        <color rgba="0.901961 0.901961 0.901961 1"/>
      </material>
    </visual>
    <!-- Part ankle_bearing_house_8 -->
    <visual>
      <origin xyz="-0.0191799 0.428357 0.056" rpy="1.5708 -1.5708 0"/>
      <geometry>
        <mesh filename="meshes/visual/ankle_bearing_house.stl"/>
      </geometry>
      <material name="ankle_bearing_house_8_material">
        <color rgba="0.615686 0.811765 0.929412 1"/>
      </material>
    </visual>
    <!-- Part m6_threaded_eye_7 -->
    <visual>
      <origin xyz="0.0857 0.235487 0.0300047" rpy="-1.5708 -1.55132 -1.5708"/>
      <geometry>
        <mesh filename="meshes/visual/m6_threaded_eye.stl"/>
      </geometry>
      <material name="m6_threaded_eye_7_material">
        <color rgba="0.615686 0.811765 0.929412 1"/>
      </material>
    </visual>
    <!-- Part 12_7mm_ball_with_6mm_hole_7 -->
    <visual>
      <origin xyz="0.0857 0.235487 0.0300047" rpy="-1.32147 -1.49062 -1.76692"/>
      <geometry>
        <mesh filename="meshes/visual/12_7mm_ball_with_6mm_hole.stl"/>
      </geometry>
      <material name="12_7mm_ball_with_6mm_hole_7_material">
        <color rgba="0.647059 0.647059 0.647059 1"/>
      </material>
    </visual>
    <!-- Part m6_threaded_eye_8 -->
    <visual>
      <origin xyz="0.0857 0.160148 0.0799996" rpy="-1.5708 1.56488 -1.5708"/>
      <geometry>
        <mesh filename="meshes/visual/m6_threaded_eye.stl"/>
      </geometry>
      <material name="m6_threaded_eye_8_material">
        <color rgba="0.615686 0.811765 0.929412 1"/>
      </material>
    </visual>
    <!-- Part 12_7mm_ball_with_6mm_hole_8 -->
    <visual>
      <origin xyz="0.0857 0.160148 0.0799996" rpy="-3.02459 1.15642 -2.99637"/>
      <geometry>
        <mesh filename="meshes/visual/12_7mm_ball_with_6mm_hole.stl"/>
      </geometry>
      <material name="12_7mm_ball_with_6mm_hole_8_material">
        <color rgba="0.647059 0.647059 0.647059 1"/>
      </material>
    </visual>
  </link>
  <!-- Link ankle_assembly_3 -->
  <link name="ankle_assembly_3">
    <inertial>
      <origin xyz="-0 0.0154553 0.025" rpy="0 0 0"/>
      <mass value="0.0816337"/>
      <inertia ixx="2.14344e-05" ixy="0" ixz="0" iyy="1.24715e-05" iyz="-0" izz="1.68911e-05"/>
    </inertial>
    <!-- Part upper_ankle_shaft_3 -->
    <visual>
      <origin xyz="-0 0.028 0.025" rpy="-1.5708 -0 0"/>
      <geometry>
        <mesh filename="meshes/visual/upper_ankle_shaft.stl"/>
      </geometry>
      <material name="upper_ankle_shaft_3_material">
        <color rgba="0.615686 0.811765 0.929412 1"/>
      </material>
    </visual>
    <collision>
      <origin xyz="-0 0.028 0.025" rpy="-1.5708 -0 0"/>
      <geometry>
        <mesh filename="meshes/collision/upper_ankle_shaft.stl"/>
      </geometry>
    </collision>
    <!-- Part ankle_ear_3 -->
    <visual>
      <origin xyz="-0 0.0188277 0.025" rpy="-1.5708 -0 0"/>
      <geometry>
        <mesh filename="meshes/visual/ankle_ear.stl"/>
      </geometry>
      <material name="ankle_ear_3_material">
        <color rgba="0.615686 0.811765 0.929412 1"/>
      </material>
    </visual>
    <collision>
      <origin xyz="-0 0.0188277 0.025" rpy="-1.5708 -0 0"/>
      <geometry>
        <mesh filename="meshes/collision/ankle_ear.stl"/>
      </geometry>
    </collision>
    <!-- Part ankle_shaft_3 -->
    <visual>
      <origin xyz="-0 0 0.025" rpy="-1.5708 -0 0"/>
      <geometry>
        <mesh filename="meshes/visual/ankle_shaft.stl"/>
      </geometry>
      <material name="ankle_shaft_3_material">
        <color rgba="0.615686 0.811765 0.929412 1"/>
      </material>
    </visual>
    <collision>
      <origin xyz="-0 0 0.025" rpy="-1.5708 -0 0"/>
      <geometry>
        <mesh filename="meshes/collision/ankle_shaft.stl"/>
      </geometry>
    </collision>
  </link>
  <!-- Joint from urdf_r_tibia_assembly to ankle_assembly_3 -->
  <joint name="right_ankle_pitch_joint" type="revolute">
    <origin xyz="0.025 0.423 0.056" rpy="-3.14159 1.5708 0"/>
    <parent link="urdf_r_tibia_assembly"/>
    <child link="ankle_assembly_3"/>
    <axis xyz="0 0 1"/>
    <limit effort="10" velocity="10" lower="-0.785398" upper="0.785398"/>
  </joint>
  <!-- Link ankle_assembly_4 -->
  <link name="ankle_assembly_4">
    <inertial>
      <origin xyz="-0 0.0154553 0.025" rpy="0 0 0"/>
      <mass value="0.0816337"/>
      <inertia ixx="2.14344e-05" ixy="0" ixz="0" iyy="1.24715e-05" iyz="-0" izz="1.68911e-05"/>
    </inertial>
    <!-- Part upper_ankle_shaft_4 -->
    <visual>
      <origin xyz="-0 0.028 0.025" rpy="-1.5708 -0 0"/>
      <geometry>
        <mesh filename="meshes/visual/upper_ankle_shaft.stl"/>
      </geometry>
      <material name="upper_ankle_shaft_4_material">
        <color rgba="0.615686 0.811765 0.929412 1"/>
      </material>
    </visual>
    <collision>
      <origin xyz="-0 0.028 0.025" rpy="-1.5708 -0 0"/>
      <geometry>
        <mesh filename="meshes/collision/upper_ankle_shaft.stl"/>
      </geometry>
    </collision>
    <!-- Part ankle_ear_4 -->
    <visual>
      <origin xyz="-0 0.0188277 0.025" rpy="-1.5708 -0 0"/>
      <geometry>
        <mesh filename="meshes/visual/ankle_ear.stl"/>
      </geometry>
      <material name="ankle_ear_4_material">
        <color rgba="0.615686 0.811765 0.929412 1"/>
      </material>
    </visual>
    <collision>
      <origin xyz="-0 0.0188277 0.025" rpy="-1.5708 -0 0"/>
      <geometry>
        <mesh filename="meshes/collision/ankle_ear.stl"/>
      </geometry>
    </collision>
    <!-- Part ankle_shaft_4 -->
    <visual>
      <origin xyz="-0 0 0.025" rpy="-1.5708 -0 0"/>
      <geometry>
        <mesh filename="meshes/visual/ankle_shaft.stl"/>
      </geometry>
      <material name="ankle_shaft_4_material">
        <color rgba="0.615686 0.811765 0.929412 1"/>
      </material>
    </visual>
    <collision>
      <origin xyz="-0 0 0.025" rpy="-1.5708 -0 0"/>
      <geometry>
        <mesh filename="meshes/collision/ankle_shaft.stl"/>
      </geometry>
    </collision>
  </link>
  <!-- Joint from urdf_r_tibia_assembly to ankle_assembly_4 (parallel linkage, fixed) -->
  <joint name="right_ankle_pitch_joint_2" type="fixed">
    <origin xyz="0.025 0.423 0.056" rpy="-3.14159 1.5708 0"/>
    <parent link="urdf_r_tibia_assembly"/>
    <child link="ankle_assembly_4"/>
  </joint>
  <!-- Joint from urdf_lower_femur_assembly_2 to urdf_r_tibia_assembly -->
  <joint name="right_knee_joint" type="revolute">
    <origin xyz="0.055 1.37102e-06 -0.113" rpy="-1.5708 0.0173732 1.57082"/>
    <parent link="urdf_lower_femur_assembly_2"/>
    <child link="urdf_r_tibia_assembly"/>
    <axis xyz="0 0 1"/>
    <limit effort="10" velocity="10" lower="-0.191906" upper="2.33882"/>
  </joint>
  <!-- Joint from urdf_r_upper_femur_assemby to urdf_lower_femur_assembly_2 -->
  <joint name="right_hip_yaw_joint" type="revolute">
    <origin xyz="-0 -0.217 0.053" rpy="-1.5708 0 0"/>
    <parent link="urdf_r_upper_femur_assemby"/>
    <child link="urdf_lower_femur_assembly_2"/>
    <axis xyz="0 0 1"/>
    <limit effort="10" velocity="10" lower="-1.57082" upper="1.57077"/>
  </joint>
  <!-- Joint from urdf_hip_assembly_2 to urdf_r_upper_femur_assemby -->
  <joint name="right_hip_roll_joint" type="revolute">
    <origin xyz="0.0549931 -0.000872784 -0.078" rpy="1.5708 1.56925 -1.58667"/>
    <parent link="urdf_hip_assembly_2"/>
    <child link="urdf_r_upper_femur_assemby"/>
    <axis xyz="0 0 1"/>
    <limit effort="10" velocity="10" lower="-0.35061" upper="3.14005"/>
  </joint>
  <!-- Joint from urdf_base to urdf_hip_assembly_2 -->
  <joint name="right_hip_pitch_joint" type="revolute">
    <origin xyz="0.107699 0.0333787 -0.467748" rpy="-1.5708 -0 1.5708"/>
    <parent link="urdf_base"/>
    <child link="urdf_hip_assembly_2"/>
    <axis xyz="0 0 1"/>
    <limit effort="10" velocity="10" lower="-2.51486" upper="1.58667"/>
  </joint>
</robot>
